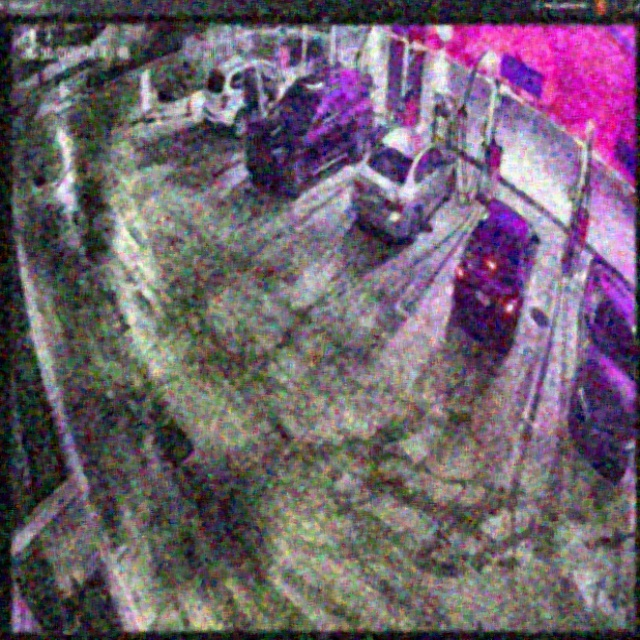Car: (246, 68, 373, 200), (453, 196, 541, 347), (351, 130, 456, 241)
